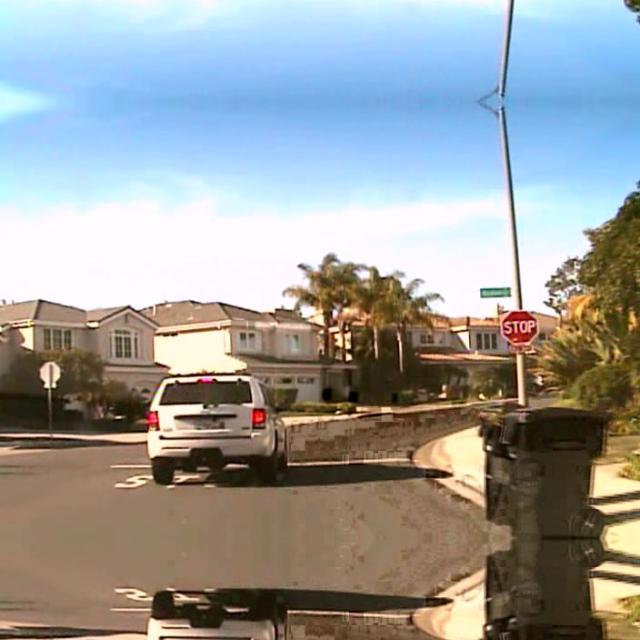stop: (501, 308, 539, 344)
